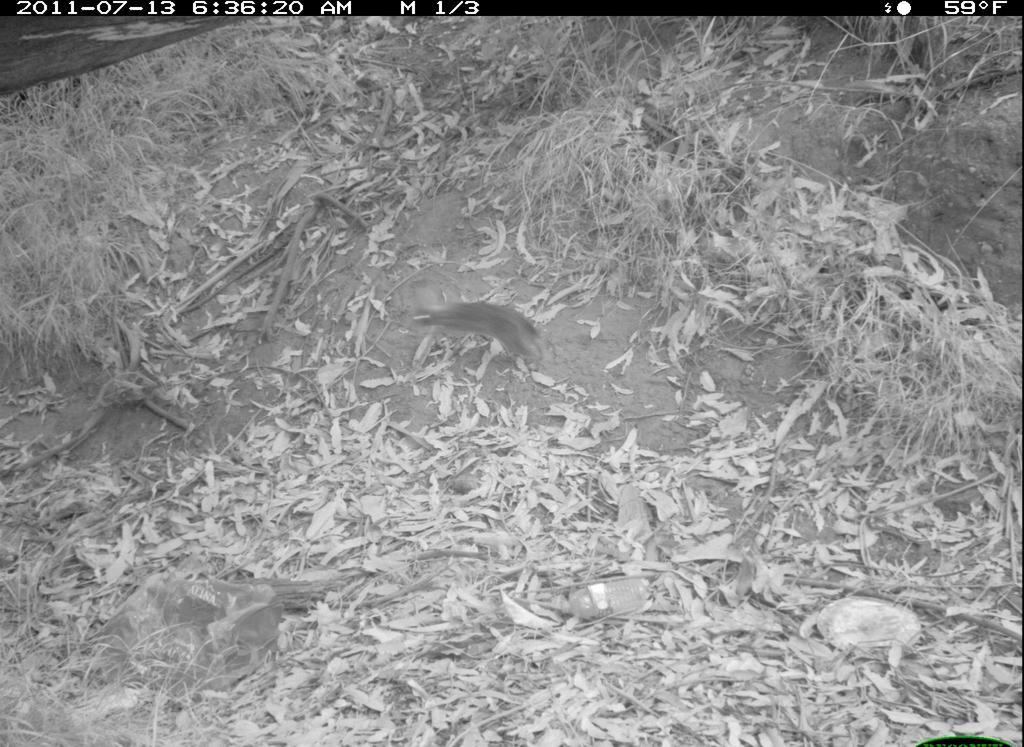rabbit: (401, 269, 554, 378)
